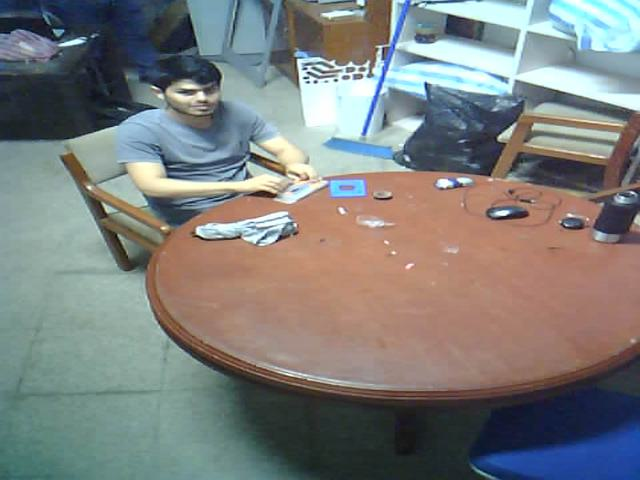person: (98, 39, 334, 239)
